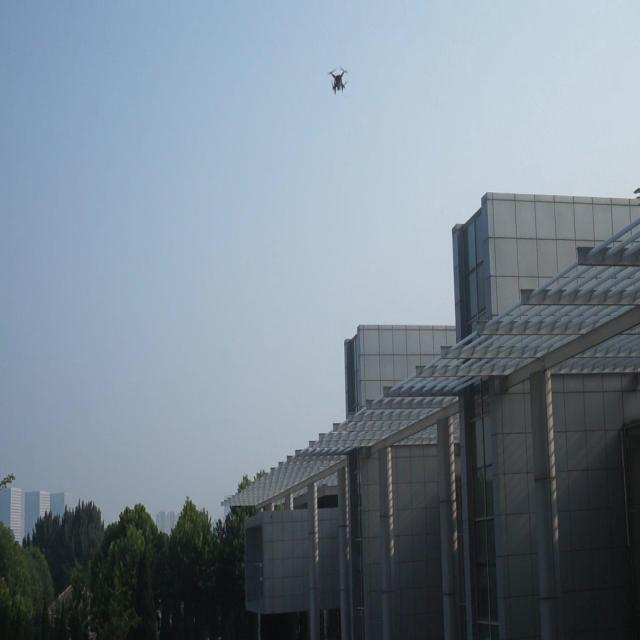drone: (327, 64, 350, 96)
